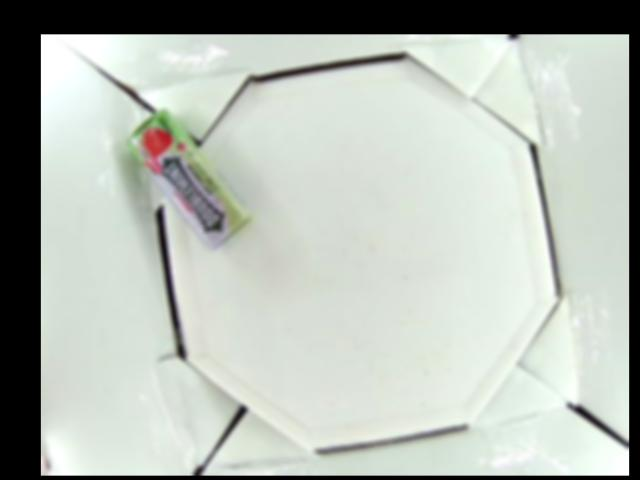Bottle: (125, 111, 250, 252)
